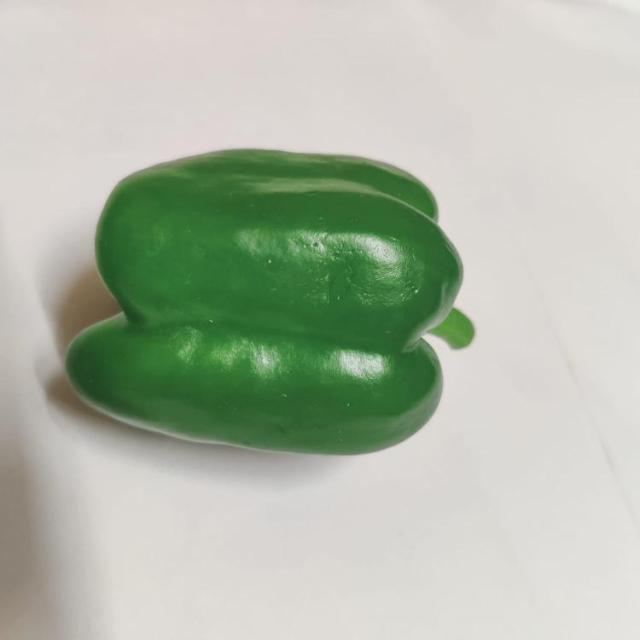Organik: (21, 147, 506, 462)
